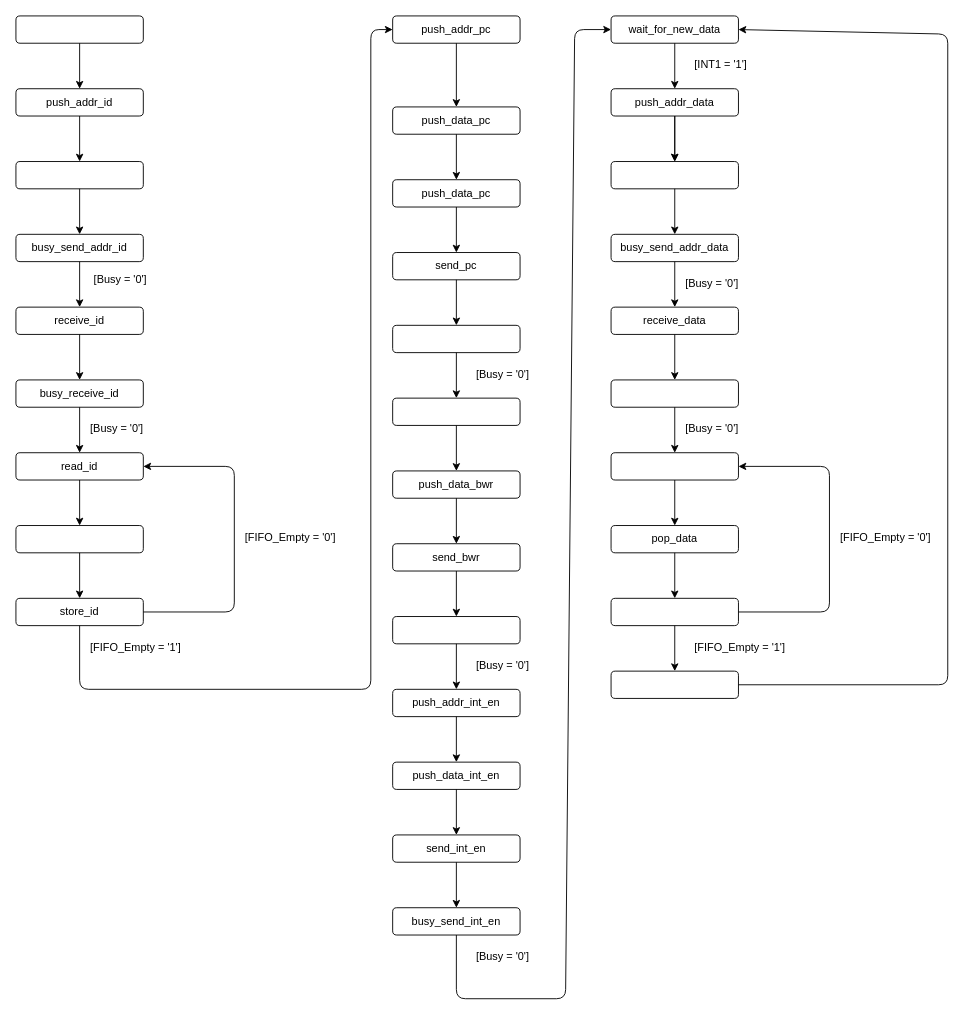
The diagram is 971 pixels wide and 1022 high, and some of its shapes have lost their labels. The box of each missing label's shape, as (x1, y1, x2, y2) in pixels:
busy_receive_data: (610, 379, 738, 407)
busy_send_bwr: (392, 616, 520, 644)
busy_send_pc: (392, 324, 520, 353)
check_data: (610, 597, 738, 626)
init: (15, 15, 143, 43)
output_data: (610, 670, 738, 698)
pop_id: (15, 525, 143, 553)
push_addr_bwr: (392, 397, 520, 425)
read_data: (610, 452, 738, 480)
send_addr_data: (610, 161, 738, 189)
send_addr_id: (15, 161, 143, 189)
